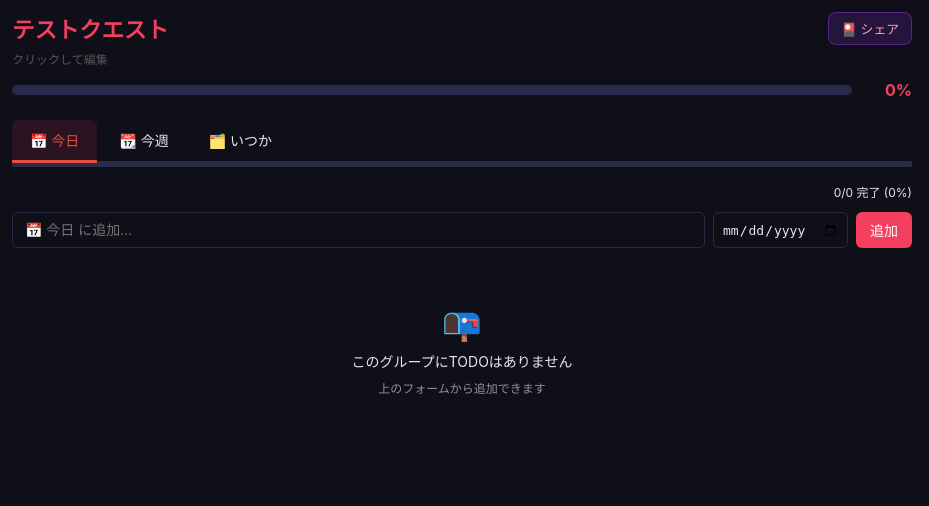
it: QuestDetail › キャンセルで編集モードを抜ける
Click the heading "テストクエスト" at (90, 30), box [12,16,169,43]
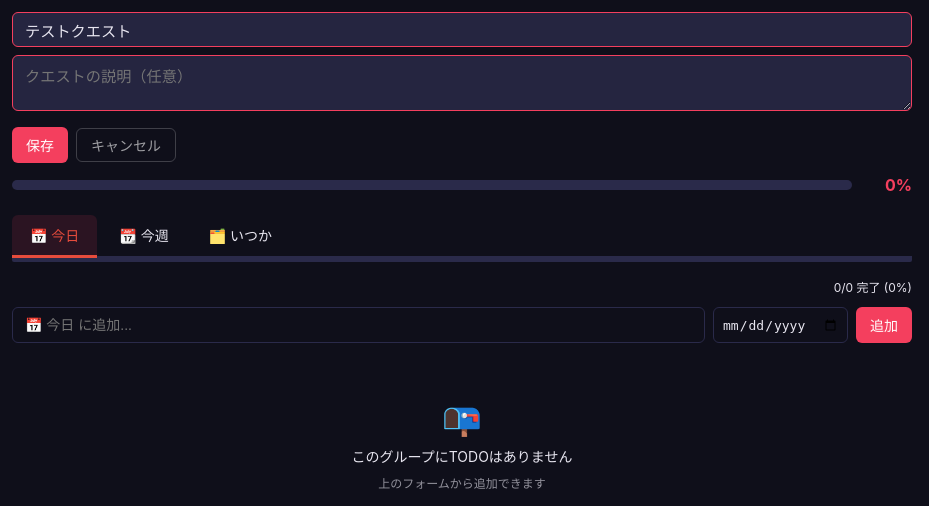
Click the button "キャンセル" at (126, 145), box [76,128,176,162]
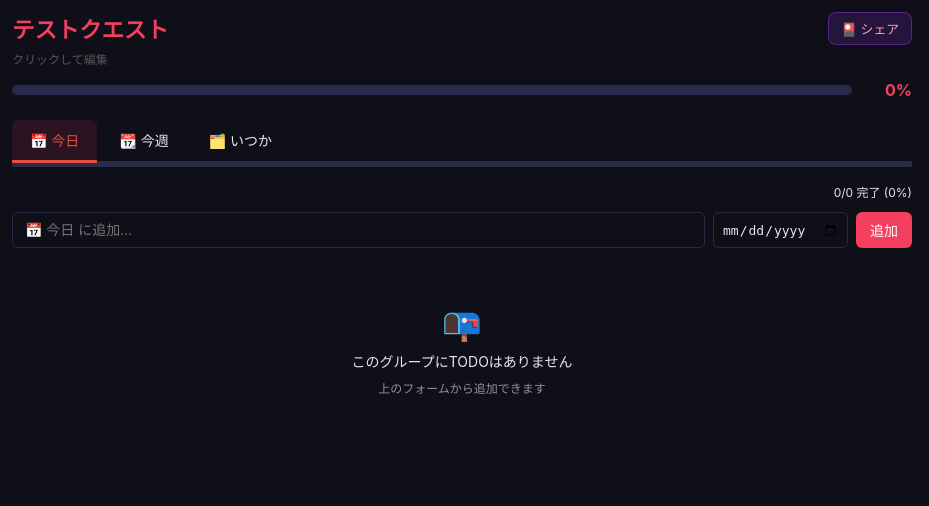
Now the heading "テストクエスト" is shown, box [12,16,169,43]
Now the button "保存" is gone
